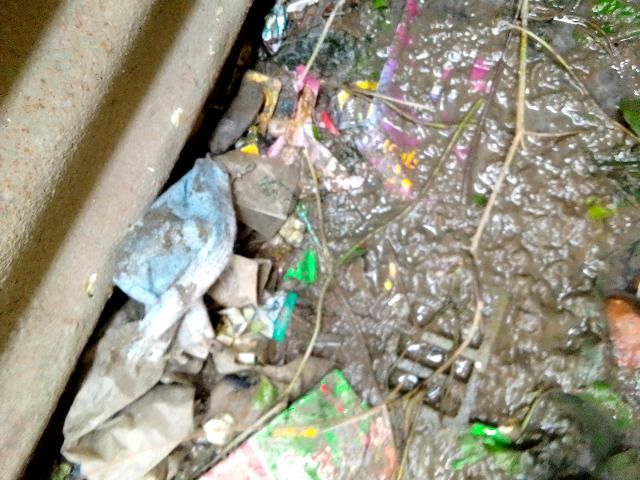mask: (154, 164, 241, 295)
